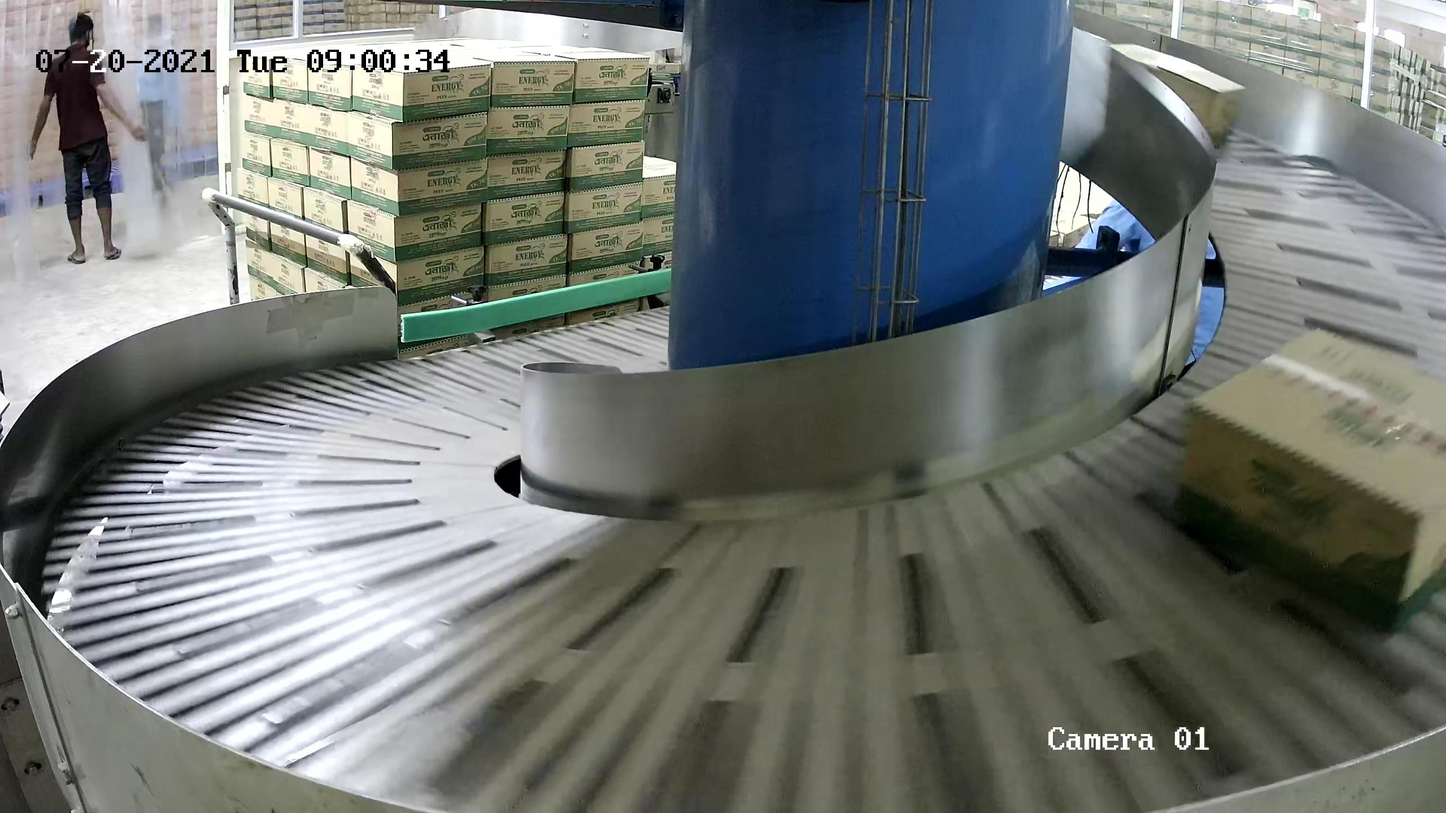Box: (1177, 325, 1446, 642)
